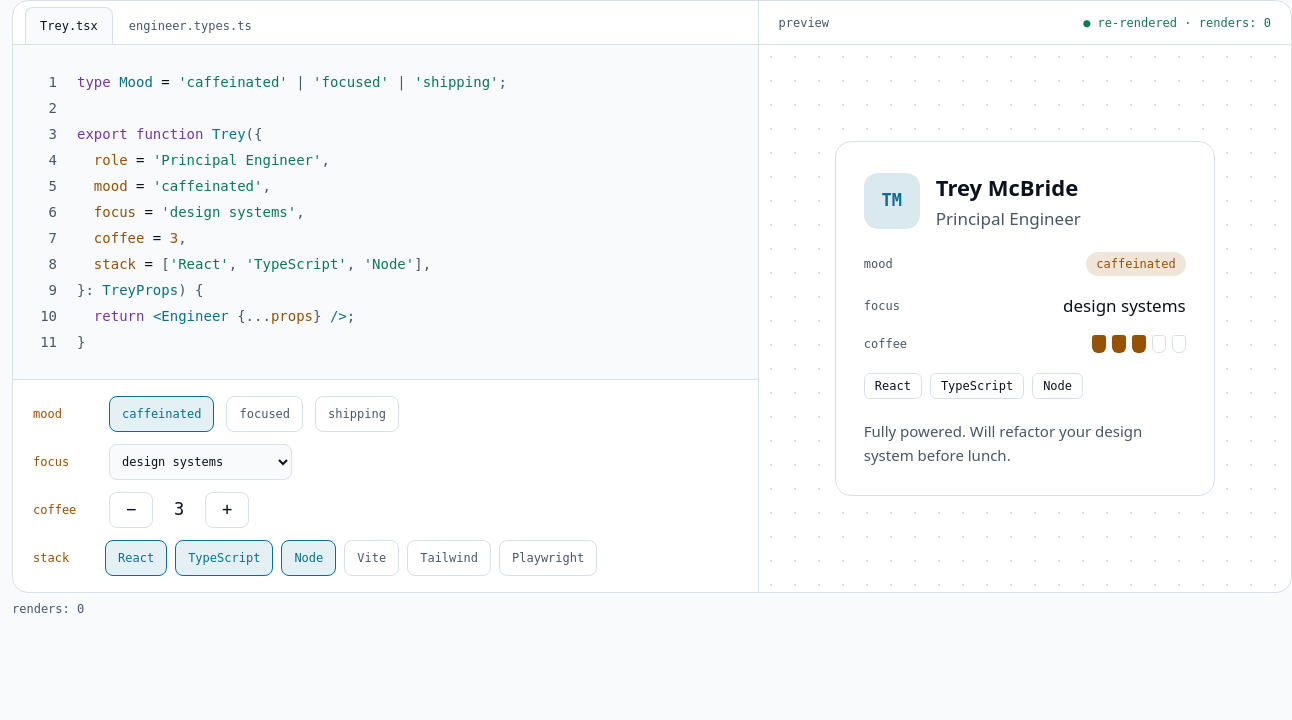
Test case: <TreyEditor /> › re-renders code and preview when a prop changes, counting one render per change
Click the radio button labelled "focused".
click(265, 414)  # box [226,396,303,432]
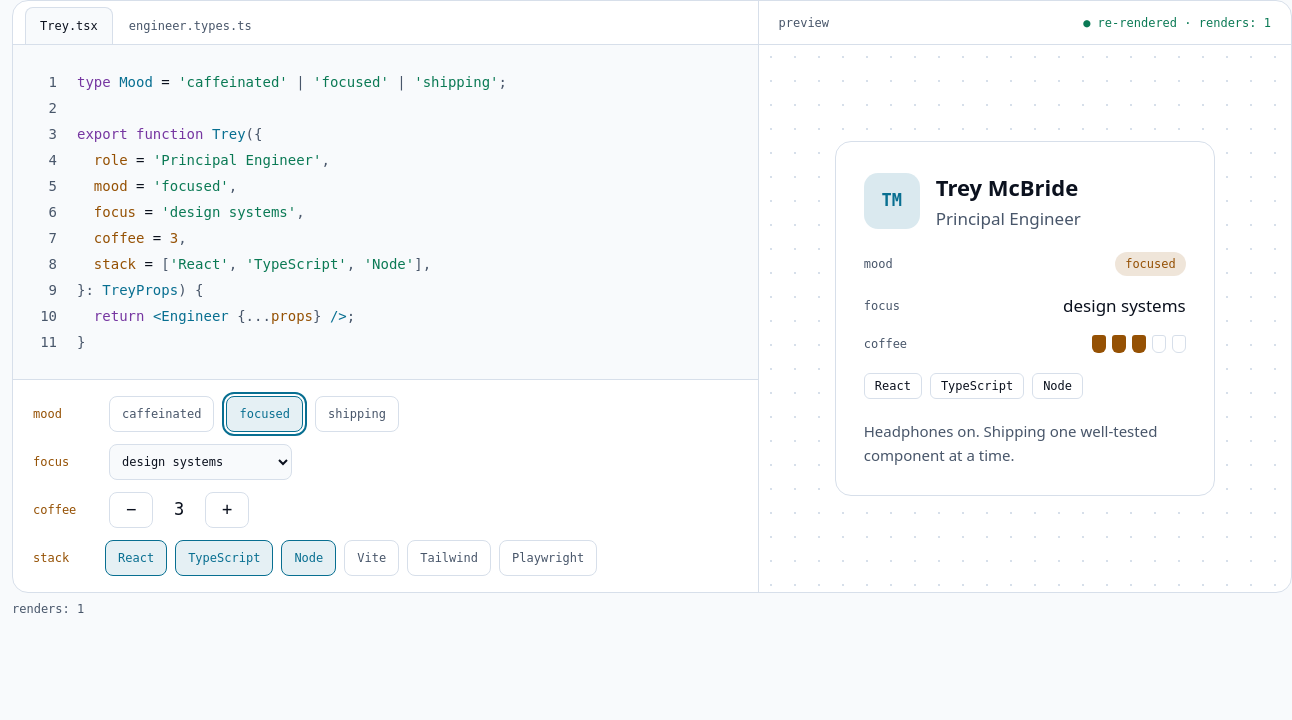
Expected: the text "focused" below "TM" is shown, [1125,257,1176,271]
Expected: the text "Headphones on. Shipping one well-tested component at a time." is shown, [864,419,1186,467]
Expected: the text "renders: 1" is shown, [12,602,84,616]
Select "performance" in the dropdown labelled "focus" at (200, 462), box [109,444,292,480]
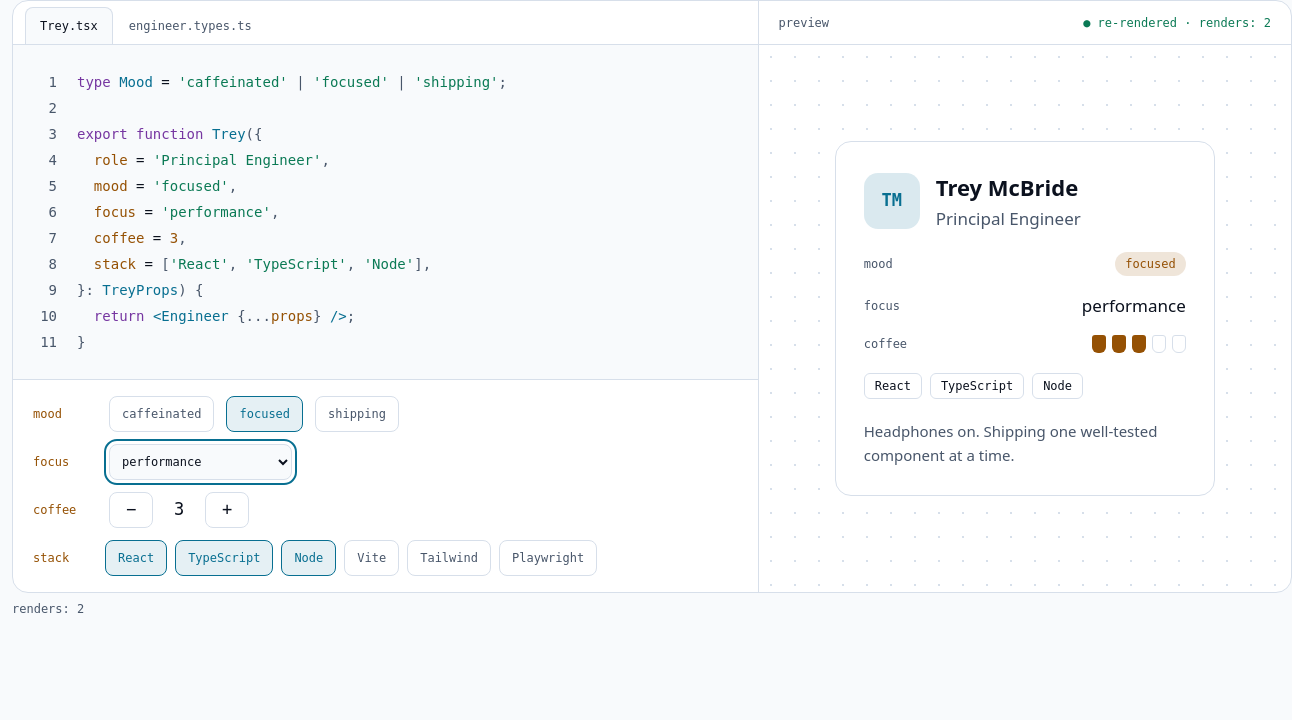
Expected: the text "renders: 2" is shown, [12,602,84,616]
